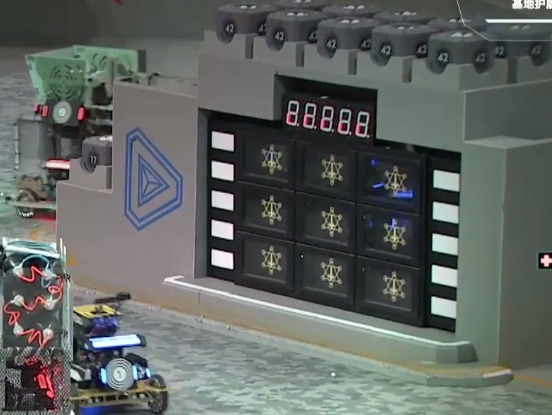box: (425, 29, 496, 76), (369, 21, 441, 67), (313, 14, 379, 61), (485, 20, 551, 66), (269, 9, 325, 56), (215, 1, 274, 45), (429, 13, 489, 34), (380, 7, 431, 26), (328, 1, 380, 17), (257, 1, 334, 8)
